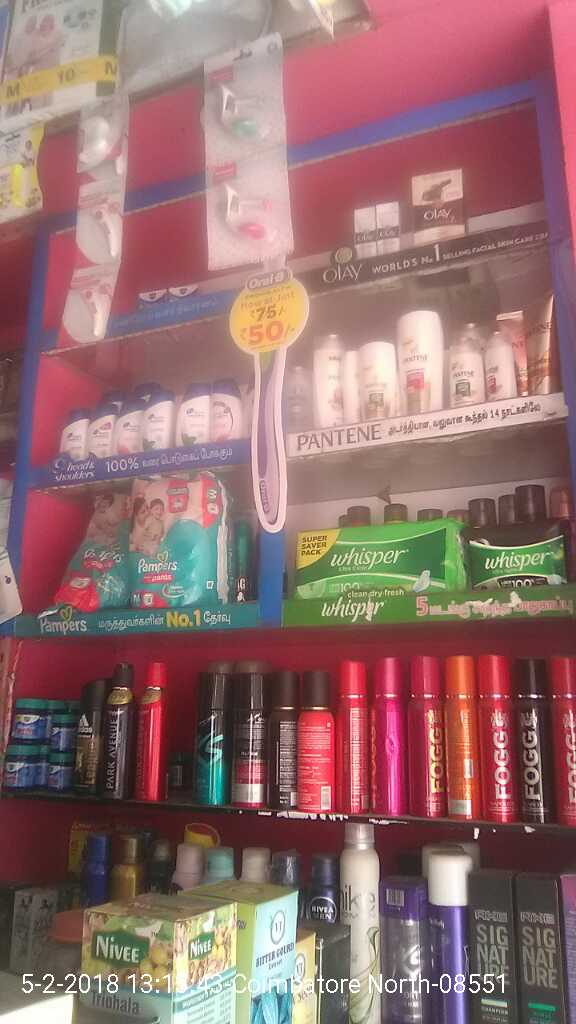vicks: (5, 698, 76, 782)
